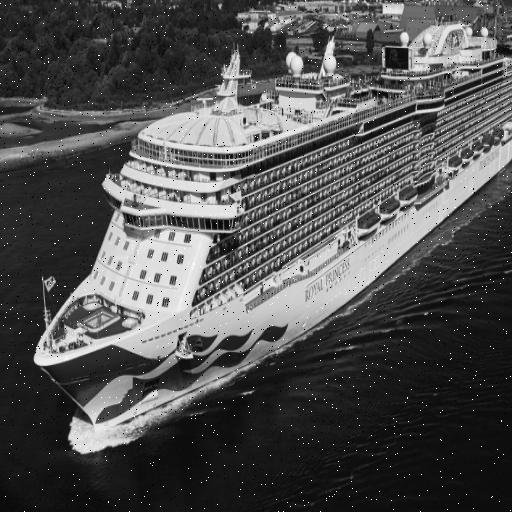cruises: (31, 13, 512, 445)
